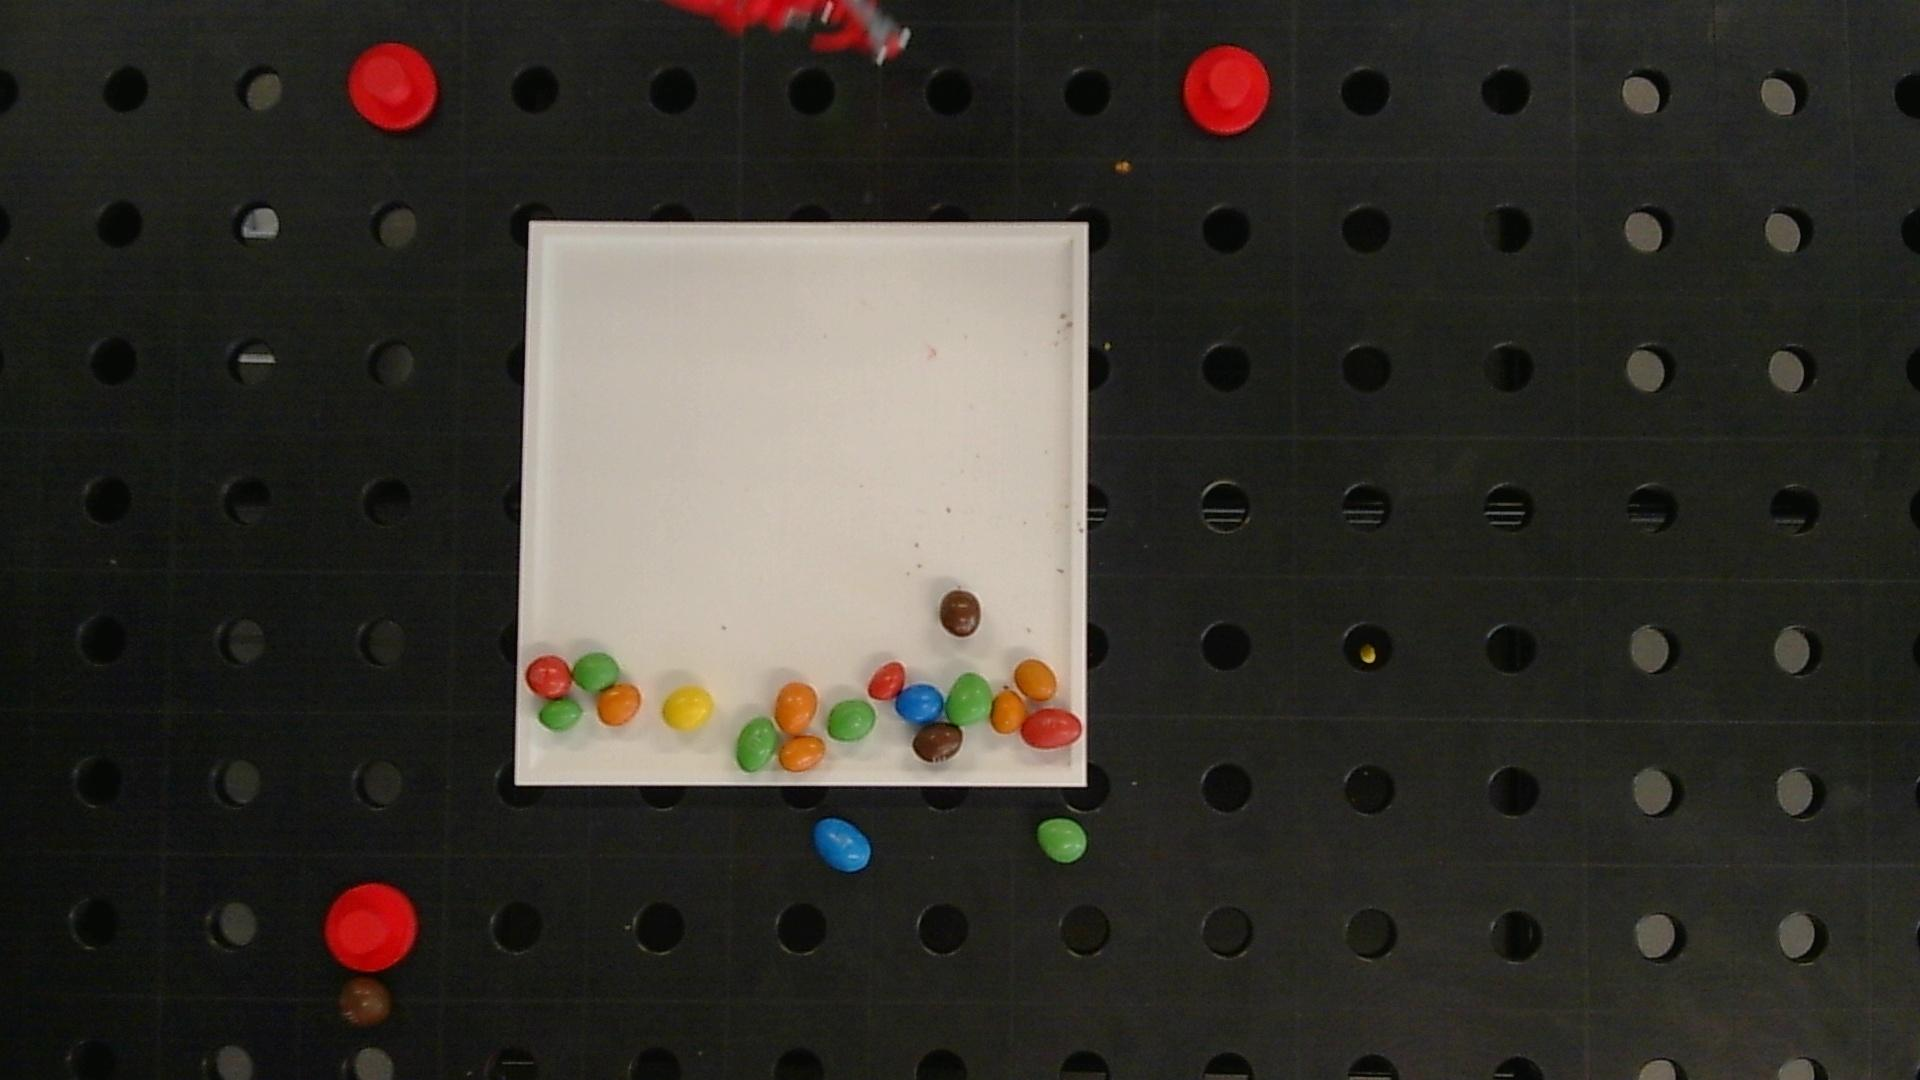blue: (814, 819, 870, 872), (895, 686, 943, 723)
brown: (938, 589, 980, 640), (913, 723, 963, 761)
green: (945, 674, 990, 724), (1039, 819, 1087, 865), (829, 699, 876, 744), (737, 717, 774, 771), (575, 653, 618, 691), (539, 700, 584, 732)
orange: (777, 683, 816, 735), (596, 684, 642, 727), (1014, 661, 1056, 702), (778, 735, 823, 771), (990, 691, 1023, 732)
red: (1023, 709, 1080, 750), (526, 654, 572, 696), (869, 662, 905, 699)
yellow: (663, 686, 712, 729)
